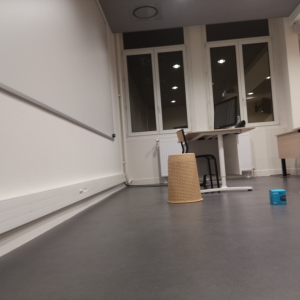medium: (166, 153, 203, 204)
small: (269, 188, 288, 206)
